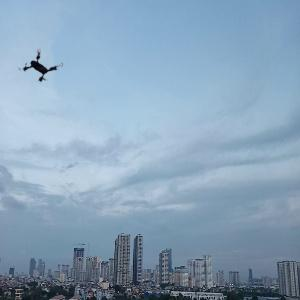drone: (16, 39, 67, 90)
